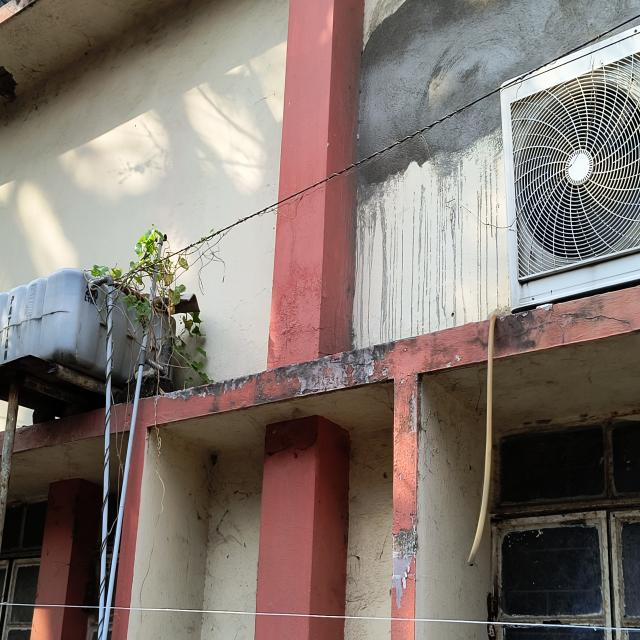peeling: (392, 526, 417, 608)
spalling: (358, 0, 640, 160), (357, 95, 500, 188)
stain_mould: (138, 286, 640, 424), (89, 226, 218, 385)
